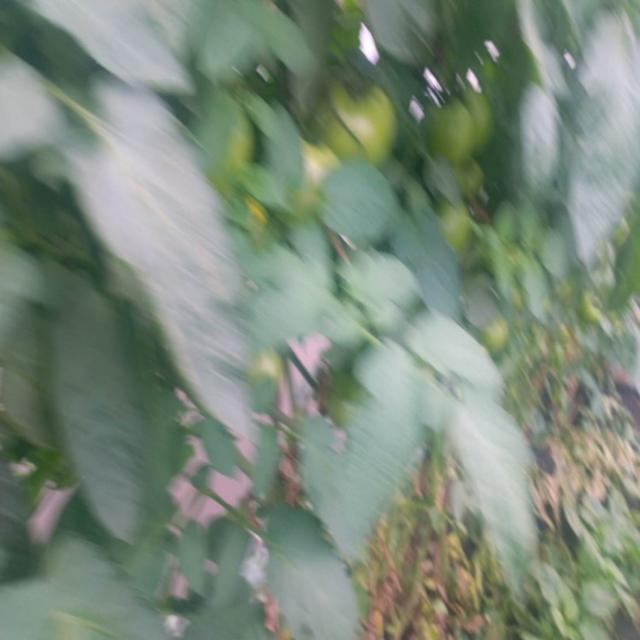tomato: (320, 73, 399, 167), (427, 76, 498, 160), (297, 143, 333, 191), (438, 208, 467, 261)
